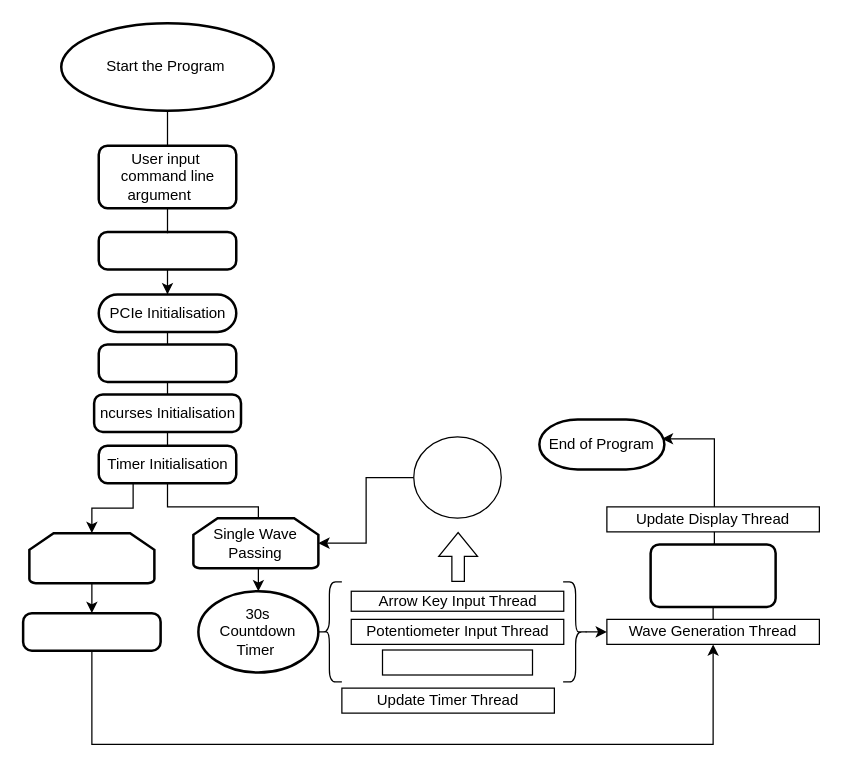
The diagram is 841 pixels wide and 776 high, and some of its shapes have lost their labels. The shapes that lost their labels are listed below. From the top down, each one's centre as x and y in pixels, then its label:
At [167,250]: "Wave Initialisation".
At [167,362]: "DIO Initialisation".
At [456,477]: "if any of wave parameters changes".
At [91,557]: "Batch File Wave Passing".
At [712,575]: "Play Corresponding Sound".
At [91,631]: "Batch file Wave Initialisation".
At [456,662]: "Switch Input Thread".
